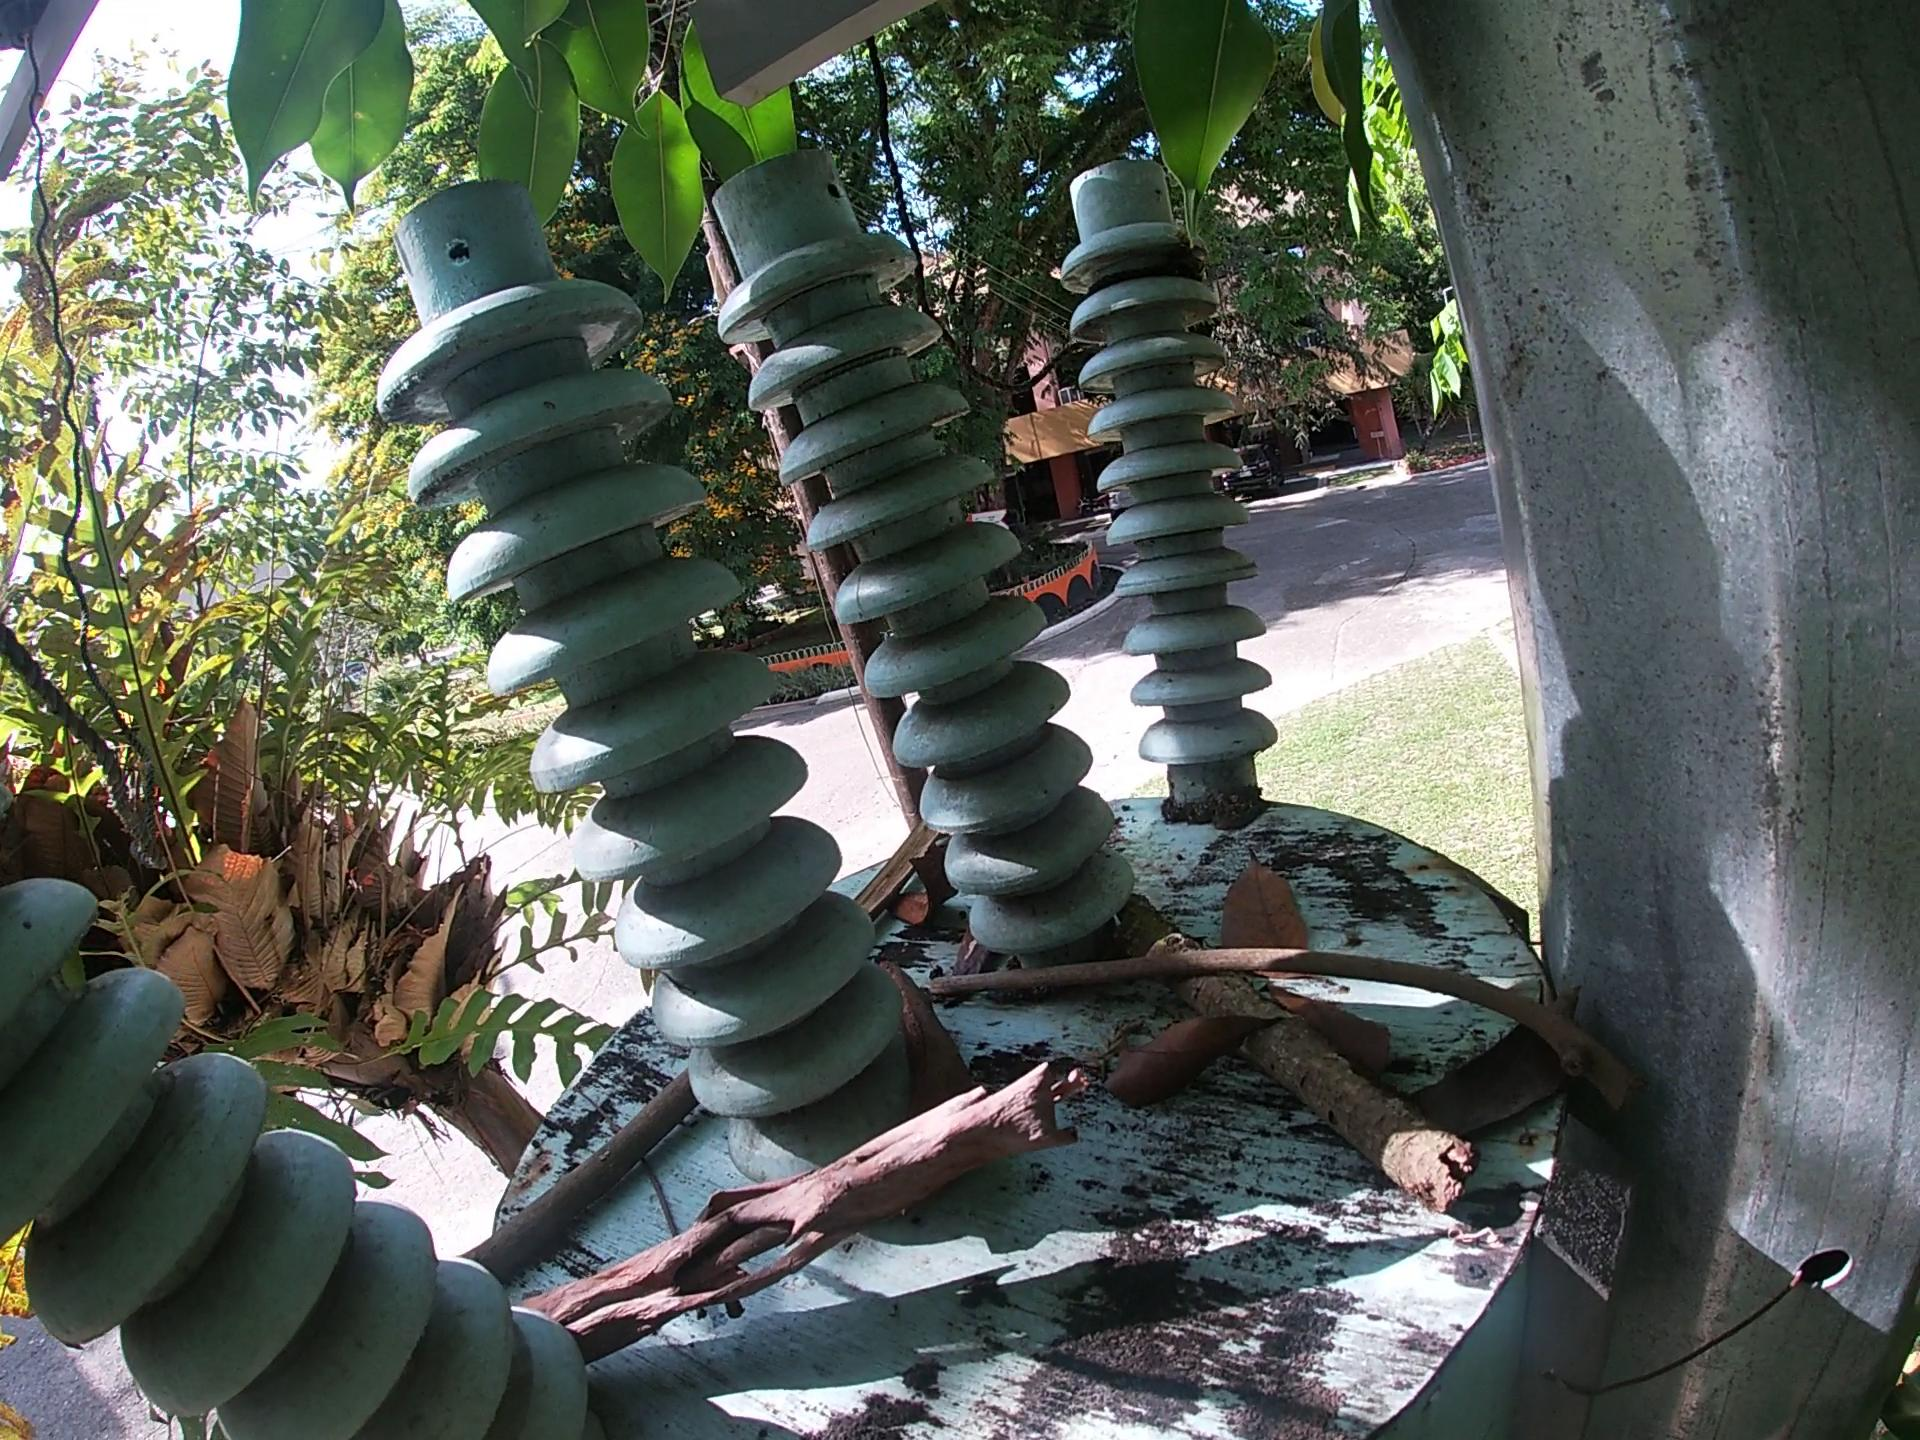leaf: (1392, 982, 1589, 1145), (1092, 1004, 1300, 1122), (1265, 973, 1404, 1088), (1220, 850, 1327, 979)
mahogany fruit: (881, 957, 986, 1118), (886, 843, 965, 933)
tree branch: (522, 1053, 1098, 1367), (928, 936, 1646, 1124), (1117, 889, 1482, 1227), (443, 1059, 711, 1289), (854, 818, 937, 926)
